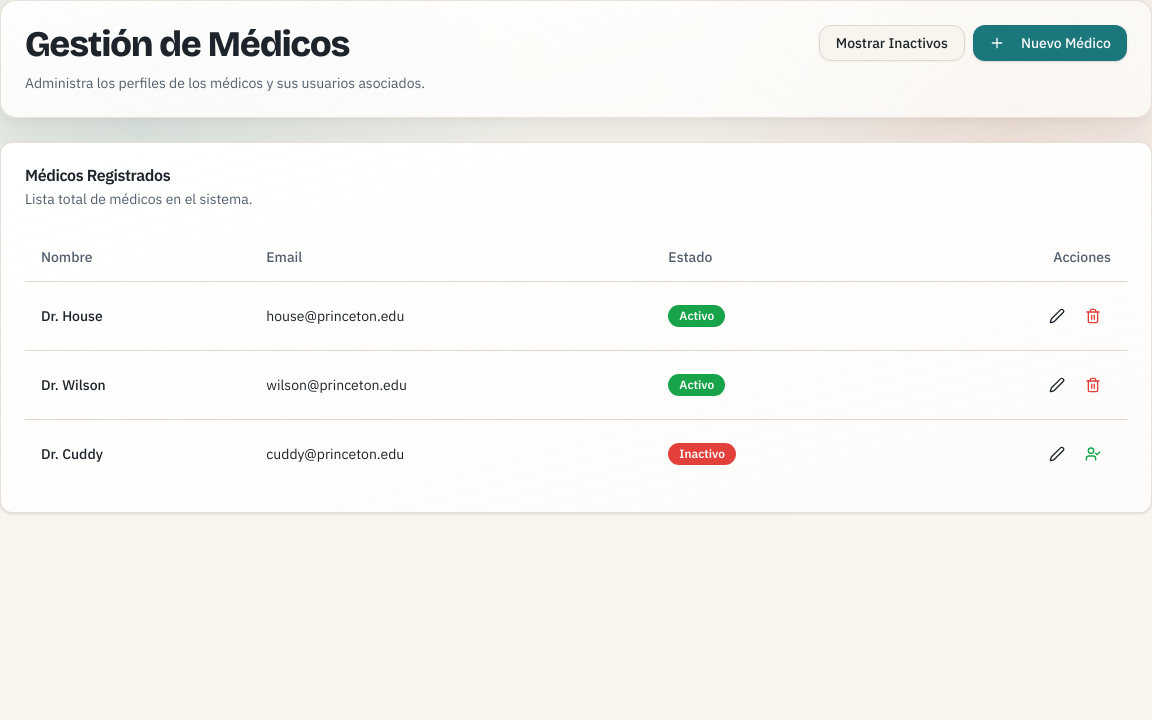
MedicosListPage › toggles inactive medicos
This screenshot has width=1152, height=720.
Click the button "Mostrar Inactivos" at coordinates (892, 43), box [819,25,965,61]
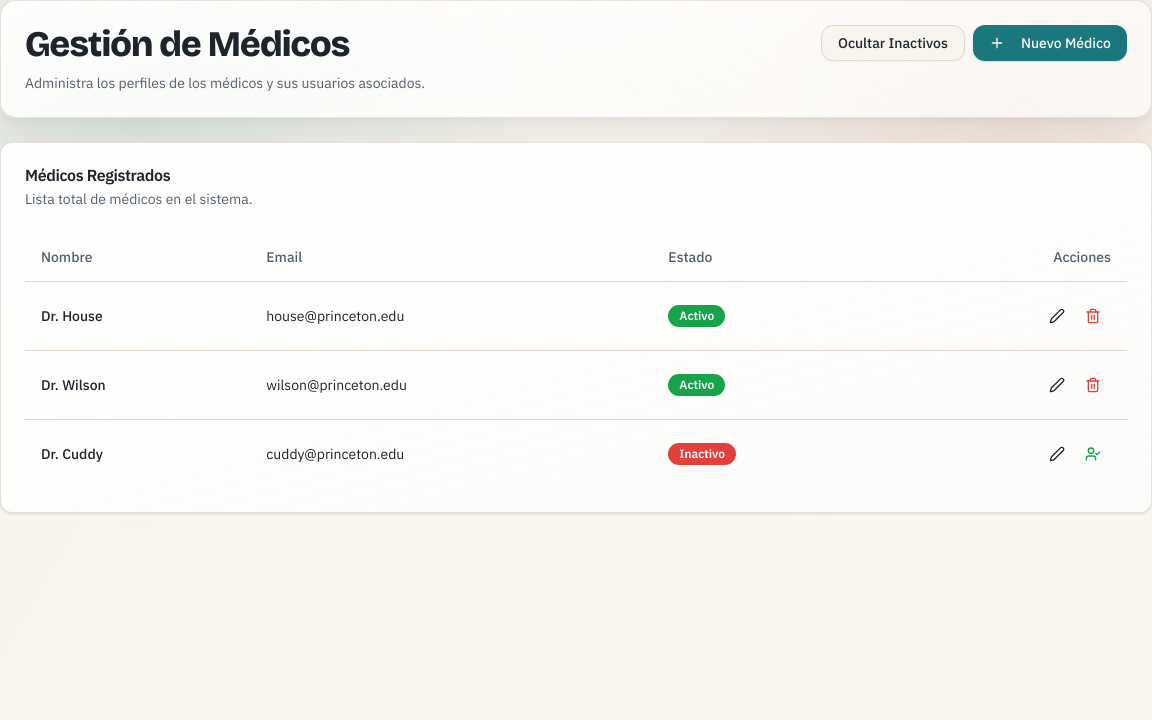
Expected: the button "Ocultar Inactivos" is shown, [821,25,965,61]
